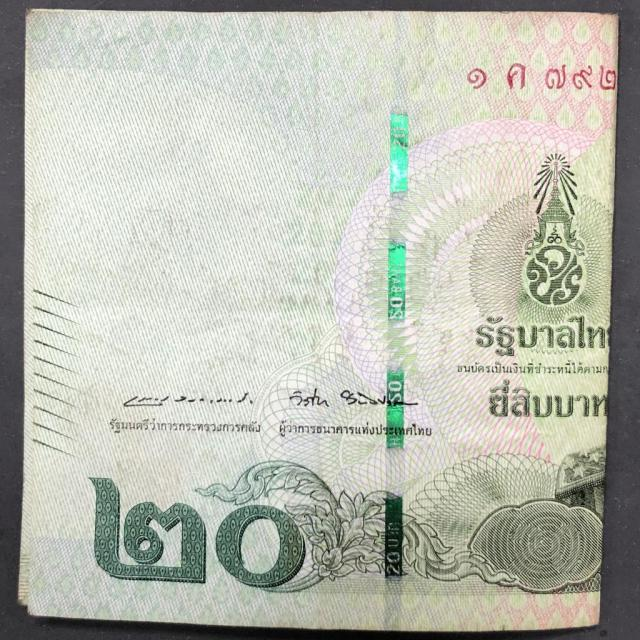THAI20: (16, 10, 620, 634)
